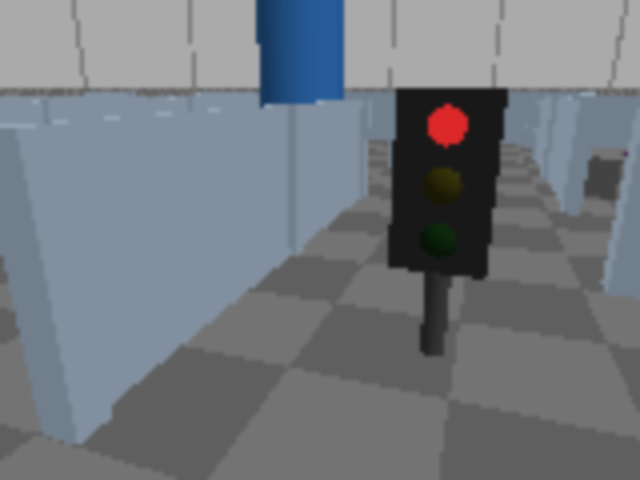traffic_light: (383, 69, 511, 382)
